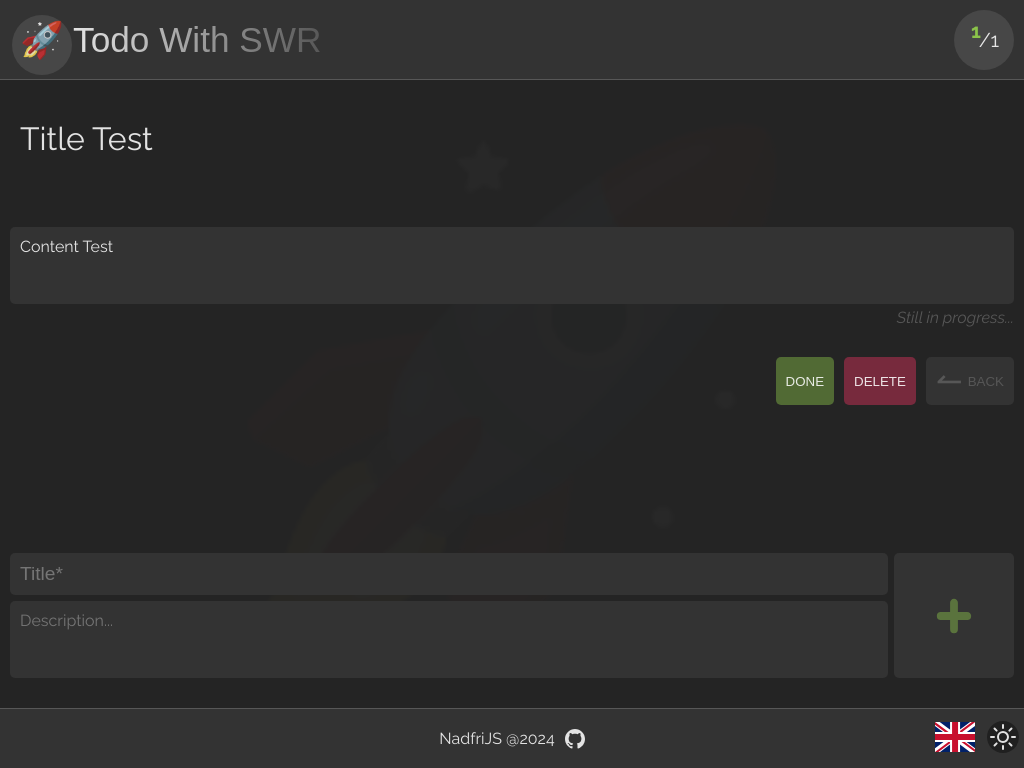
Test: TodoPage usecases › should mark the todo as completed
The width and height of the screenshot is (1024, 768).
Click the button "DONE": (805, 381) [776,357,834,405]
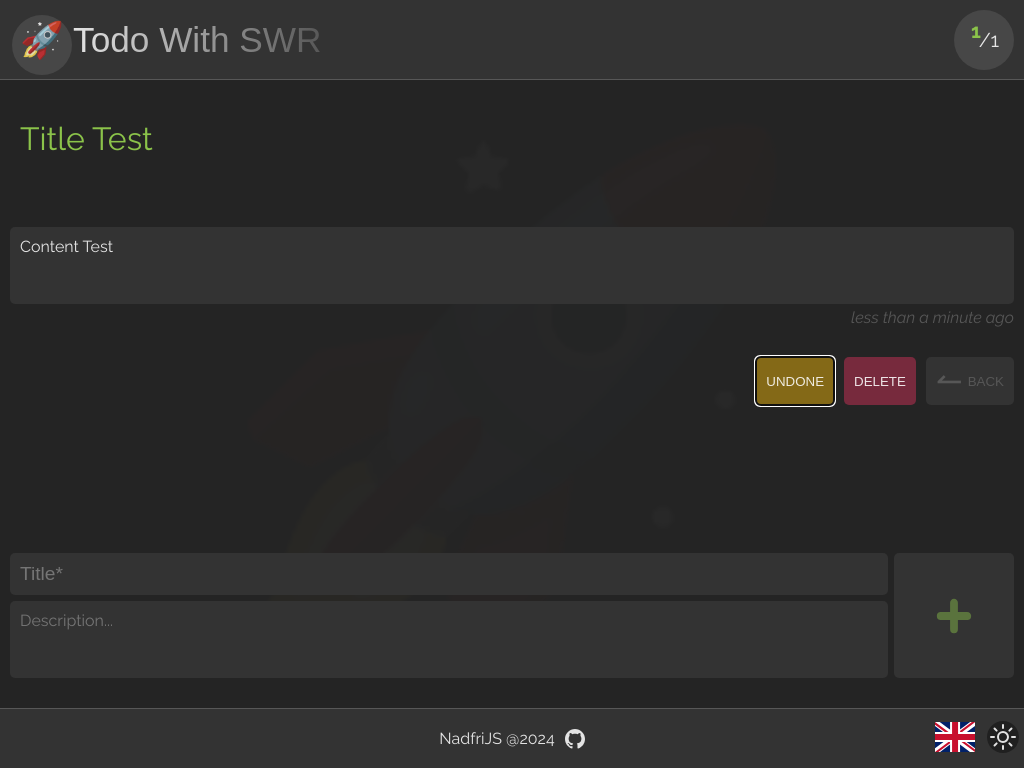
Now the button "UNDONE" is shown, box [756,357,834,405]
